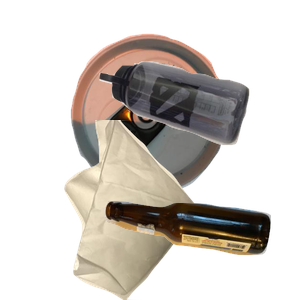glass: (101, 198, 300, 300)
metal: (68, 31, 288, 211)
plastic: (97, 59, 300, 197)
trash: (62, 120, 251, 300)
